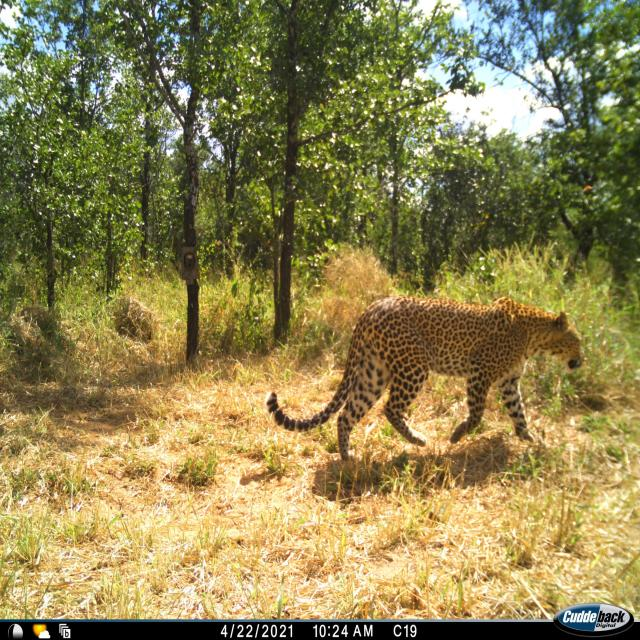Leopard: (273, 288, 588, 478)
